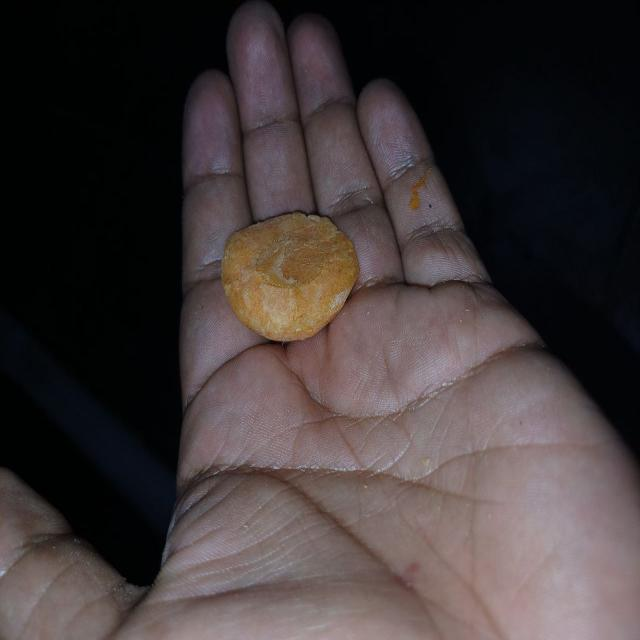organic: (221, 211, 360, 344)
